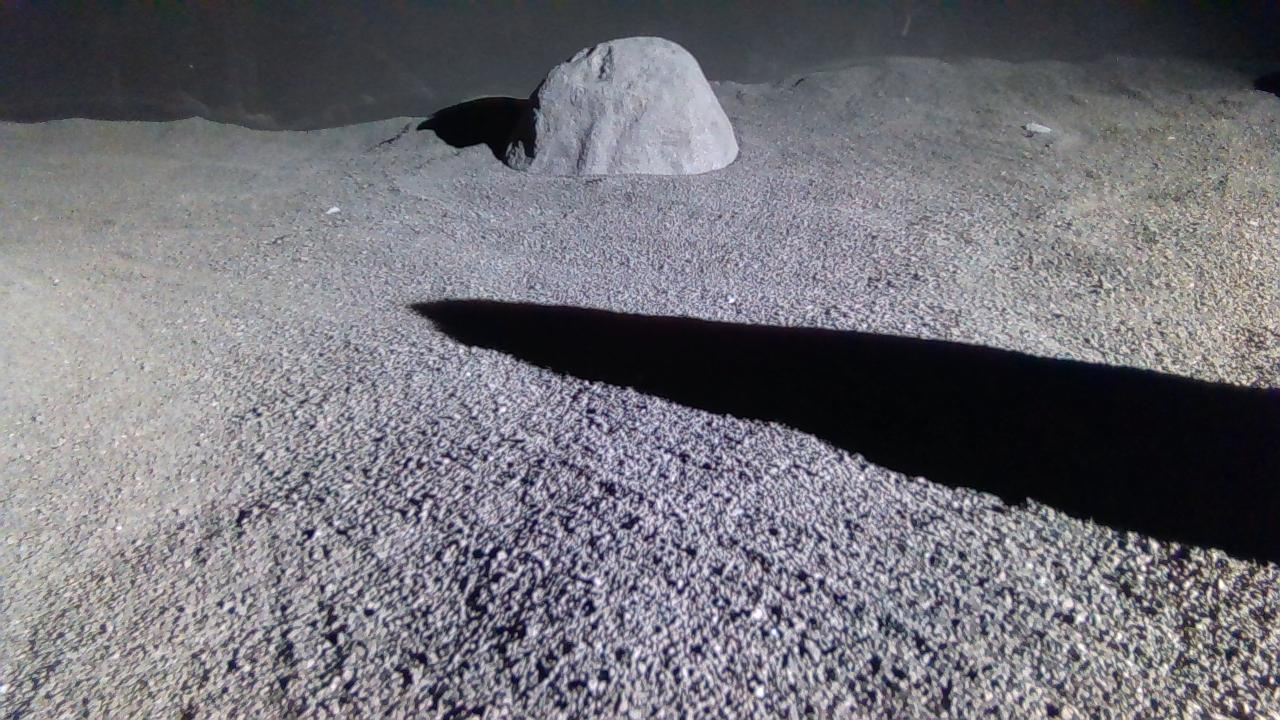rock: (506, 35, 739, 174)
